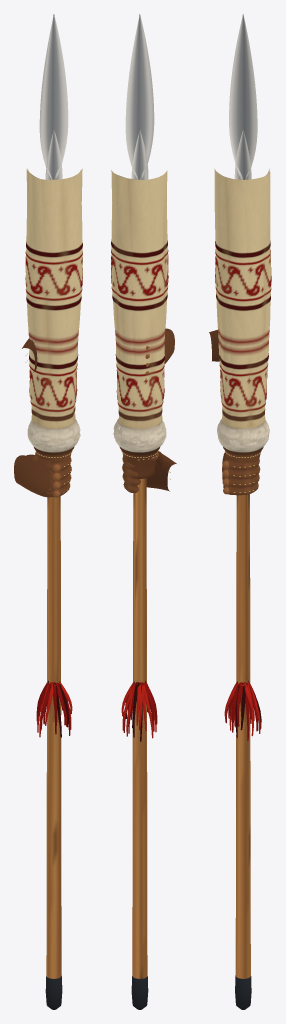
3 views of the same model, side by side, from view 1: azimuth 30°, elevation 25°; view 2: azimuth 210°, elevation 25°; view 3: azimuth 330°, elevation 25° (orthographic).
Parts seen in each view (by area): view 1: left-arm, right-arm, spear-paint, spear-metal, javelin-paint, right-fist, javelin-metal; view 2: left-arm, right-arm, spear-paint, javelin-paint, spear-metal, right-fist, javelin-metal, held-spear; view 3: left-arm, right-arm, spear-paint, javelin-paint, spear-metal, right-fist, javelin-metal, held-spear.
Boxes of the visible parts, x1,y1,x2,y2 form: left-arm: (26,169,82,461); right-arm: (25,168,82,452); spear-paint: (46,496,61,978); spear-metal: (39,14,68,1009); javelin-paint: (36,497,72,737); right-fist: (14,452,71,497); javelin-metal: (45,130,62,179); left-arm: (111,170,167,478); right-arm: (111,170,168,452); spear-paint: (132,478,147,978); javelin-paint: (121,478,157,741); spear-metal: (125,14,154,1009); right-fist: (122,451,176,492); javelin-metal: (131,130,148,179); held-spear: (145,328,174,375); left-arm: (215,171,270,476); right-arm: (214,168,271,452); spear-paint: (235,494,250,978); javelin-paint: (224,495,261,740); spear-metal: (229,14,257,1009); right-fist: (222,452,260,495); javelin-metal: (234,130,251,179); held-spear: (209,329,219,361).
Bounding box in the file's own units: 0.1537 × 2.45 × 0.1263.
